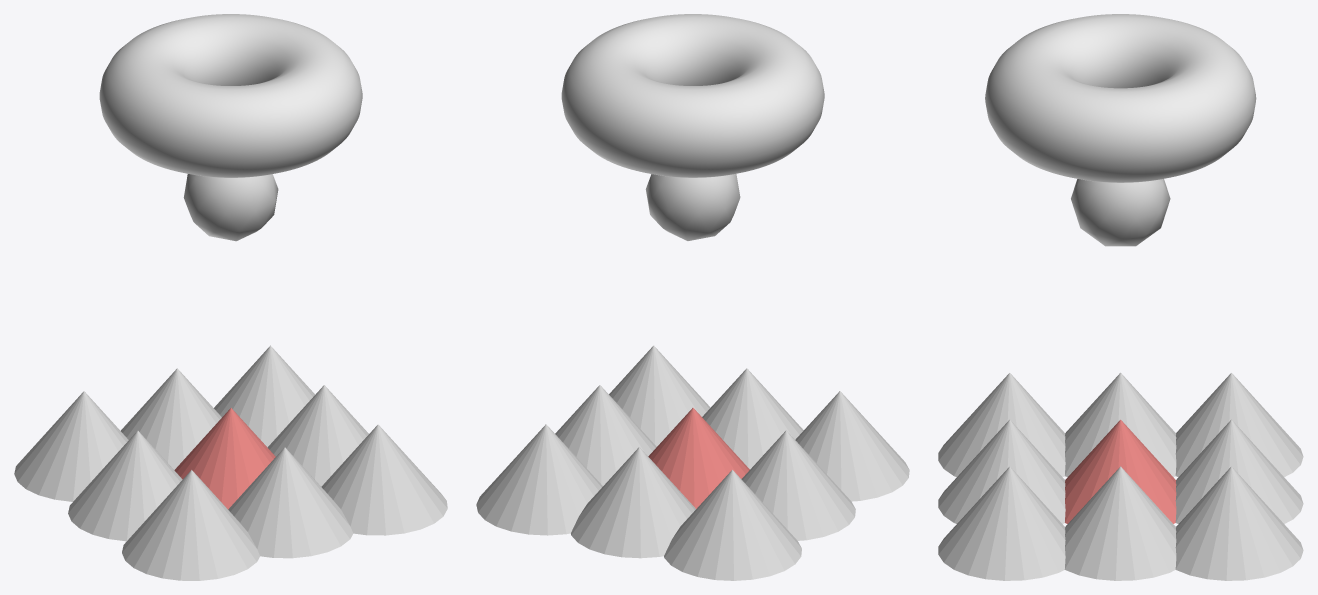
File: TororororusCloth.fbx
3 renders of one model, left to right at view 1: azimuth 30°, elevation 25°; view 2: azimuth 150°, elevation 25°; view 3: azimuth 270°, elevation 25°, orthographic. The views are drawn at different scales.
Parts seen in each view (by area): view 1: Torus, Cone_high_3, Cone_high_2, Cone_high_1, Cone_high_5, Cone_high_4, Icosphere, Cone_high_7, Cone_high_6, Cone_low, Cone_high_8; view 2: Torus, Cone_high_5, Cone_high_7, Cone_high_6, Cone_high_3, Cone_high_4, Icosphere, Cone_high_2, Cone_high_8, Cone_high_1, Cone_low; view 3: Torus, Cone_high_2, Cone_high_7, Cone_high_8, Cone_high_1, Cone_high_3, Cone_high_6, Cone_high_5, Icosphere, Cone_low, Cone_high_4.
Part boxes in pixels (x1,y1,x2,y2): Torus: [99, 14, 362, 177]; Cone_high_3: [122, 470, 260, 580]; Cone_high_2: [321, 424, 447, 535]; Cone_high_1: [228, 447, 353, 558]; Cone_high_5: [14, 391, 128, 501]; Cone_high_4: [68, 430, 182, 541]; Icosphere: [183, 174, 278, 241]; Cone_high_7: [214, 345, 315, 447]; Cone_high_6: [121, 368, 221, 469]; Cone_low: [174, 408, 275, 509]; Cone_high_8: [267, 385, 368, 486]; Torus: [561, 14, 824, 177]; Cone_high_5: [664, 470, 801, 580]; Cone_high_7: [476, 424, 602, 535]; Cone_high_6: [571, 447, 695, 558]; Cone_high_3: [795, 391, 909, 501]; Cone_high_4: [741, 430, 855, 540]; Icosphere: [645, 174, 740, 240]; Cone_high_2: [609, 345, 710, 446]; Cone_high_8: [555, 385, 656, 485]; Cone_high_1: [702, 368, 803, 469]; Cone_low: [648, 408, 749, 508]; Torus: [985, 14, 1256, 182]; Cone_high_2: [938, 466, 1065, 580]; Cone_high_7: [1175, 466, 1303, 580]; Cone_high_8: [1064, 466, 1176, 580]; Cone_high_1: [938, 419, 1065, 523]; Cone_high_3: [938, 373, 1065, 477]; Cone_high_6: [1175, 419, 1303, 523]; Cone_high_5: [1175, 373, 1303, 477]; Icosphere: [1071, 179, 1170, 246]; Cone_low: [1065, 419, 1176, 523]; Cone_high_4: [1065, 372, 1176, 476].
Size of the model in its own units: 330 by 446 by 329.
